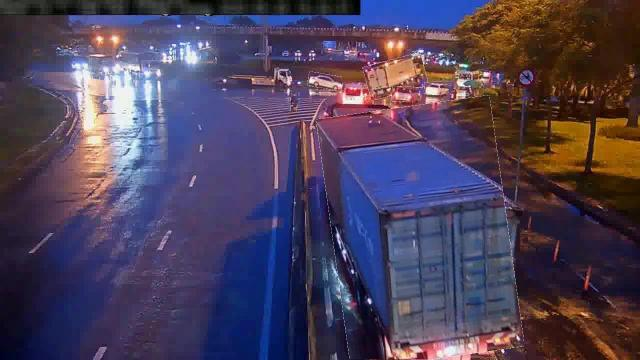Bike: (290, 92, 298, 112)
Car: (308, 74, 342, 90), (392, 86, 422, 102), (424, 84, 452, 94)
Truck: (324, 100, 516, 360), (365, 56, 427, 96)
